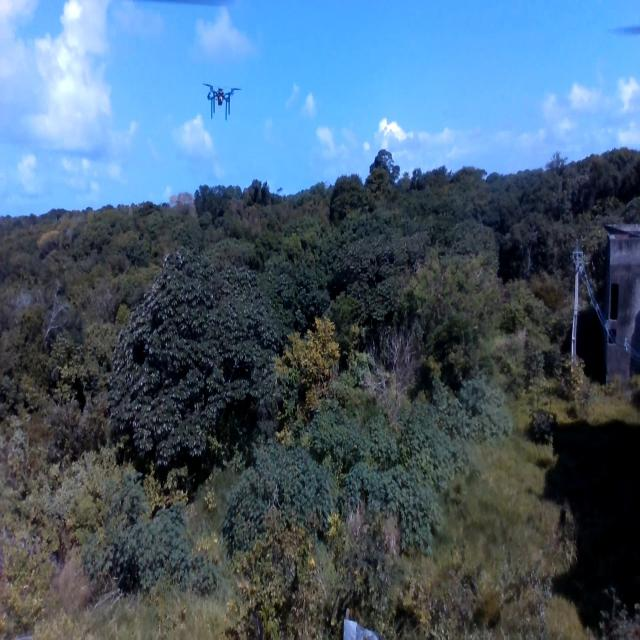-uav-: (202, 77, 240, 132)
